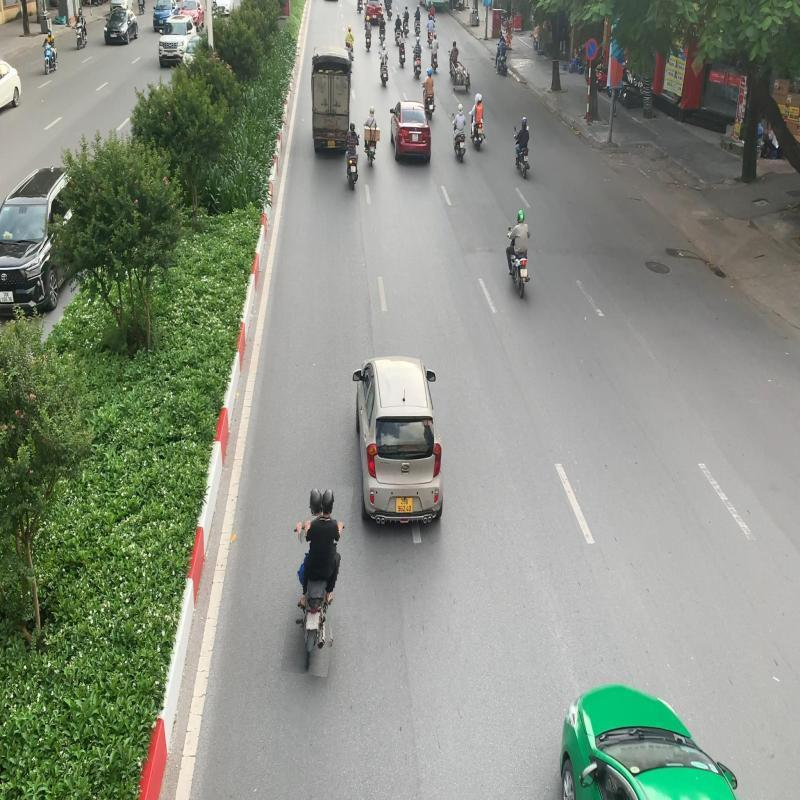helmet: (308, 484, 322, 516)
motorcyclist: (286, 482, 346, 676)
